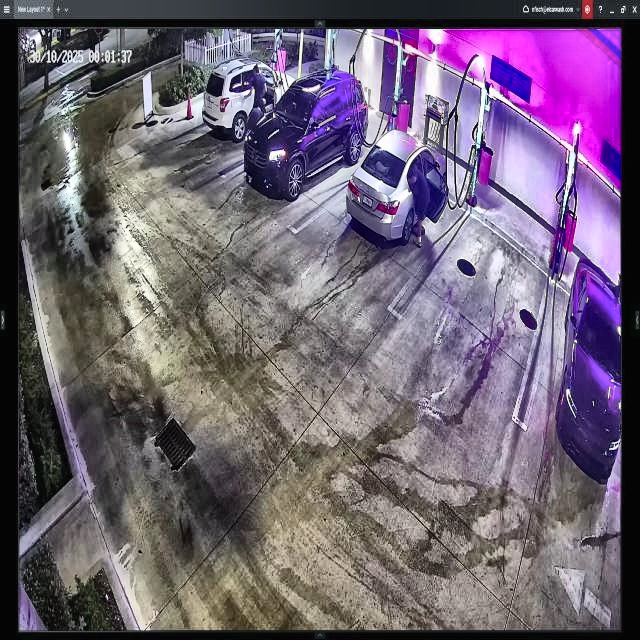Car: (246, 67, 366, 202), (347, 131, 447, 243)
